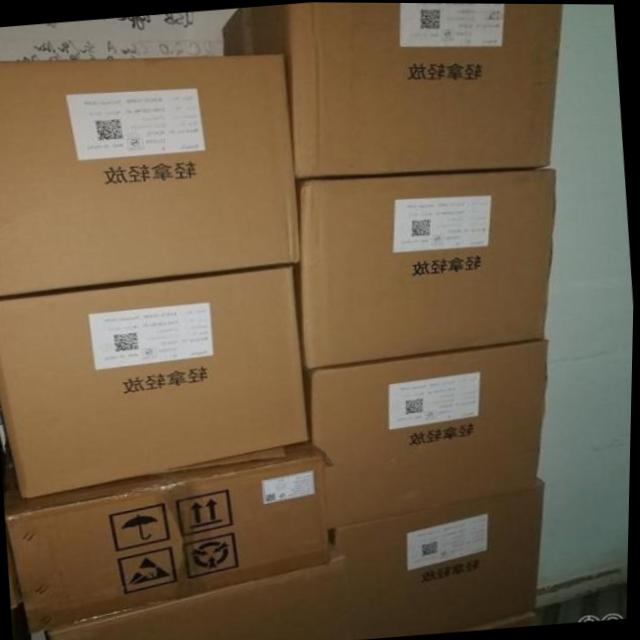box: (0, 52, 302, 299), (0, 265, 312, 498), (9, 437, 331, 634), (221, 2, 560, 178), (303, 169, 554, 370), (313, 340, 551, 527), (336, 483, 548, 636), (48, 537, 360, 640), (463, 609, 539, 628)
